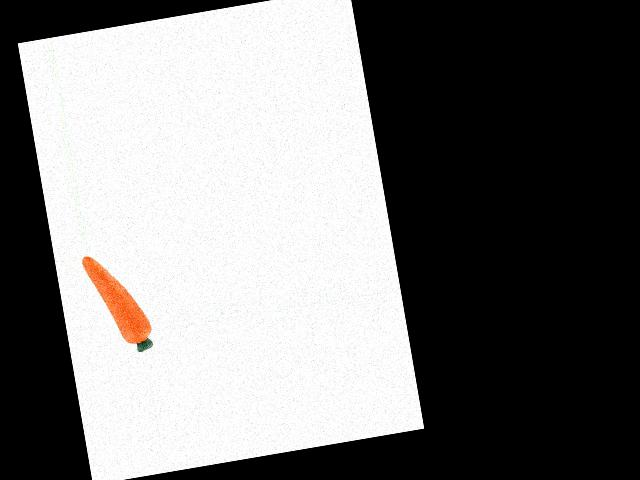carrot: (79, 247, 152, 350)
